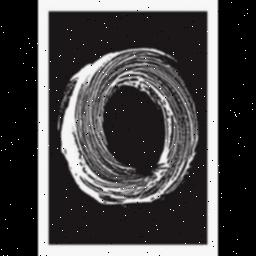o: (53, 40, 205, 214)
